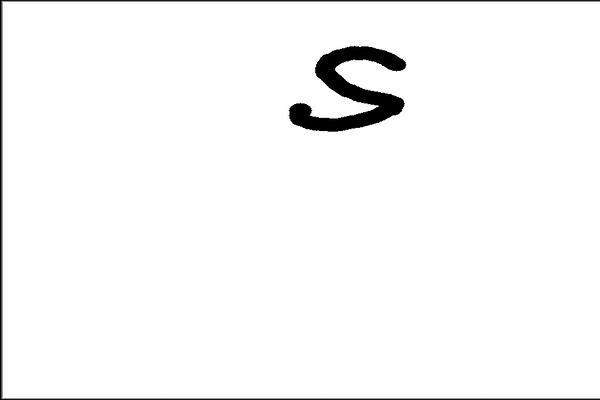S: (283, 40, 411, 139)
